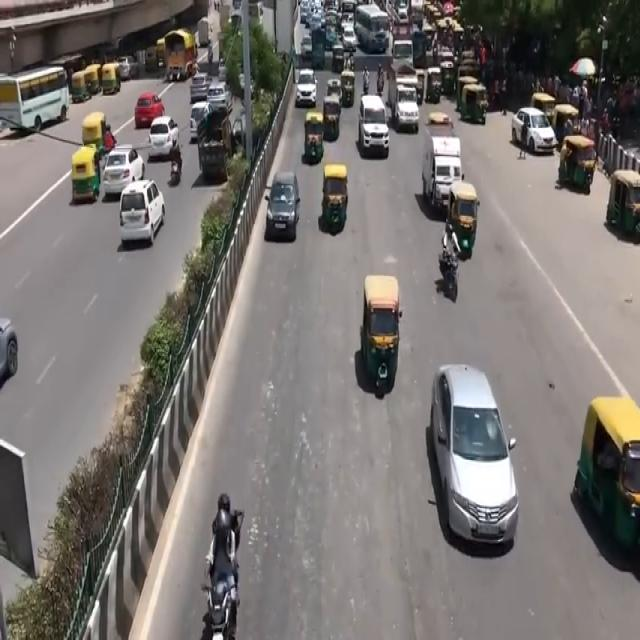BUS: (0, 63, 69, 132), (354, 4, 391, 54)
MOTORCYCLE: (206, 581, 239, 640), (442, 254, 461, 304)
